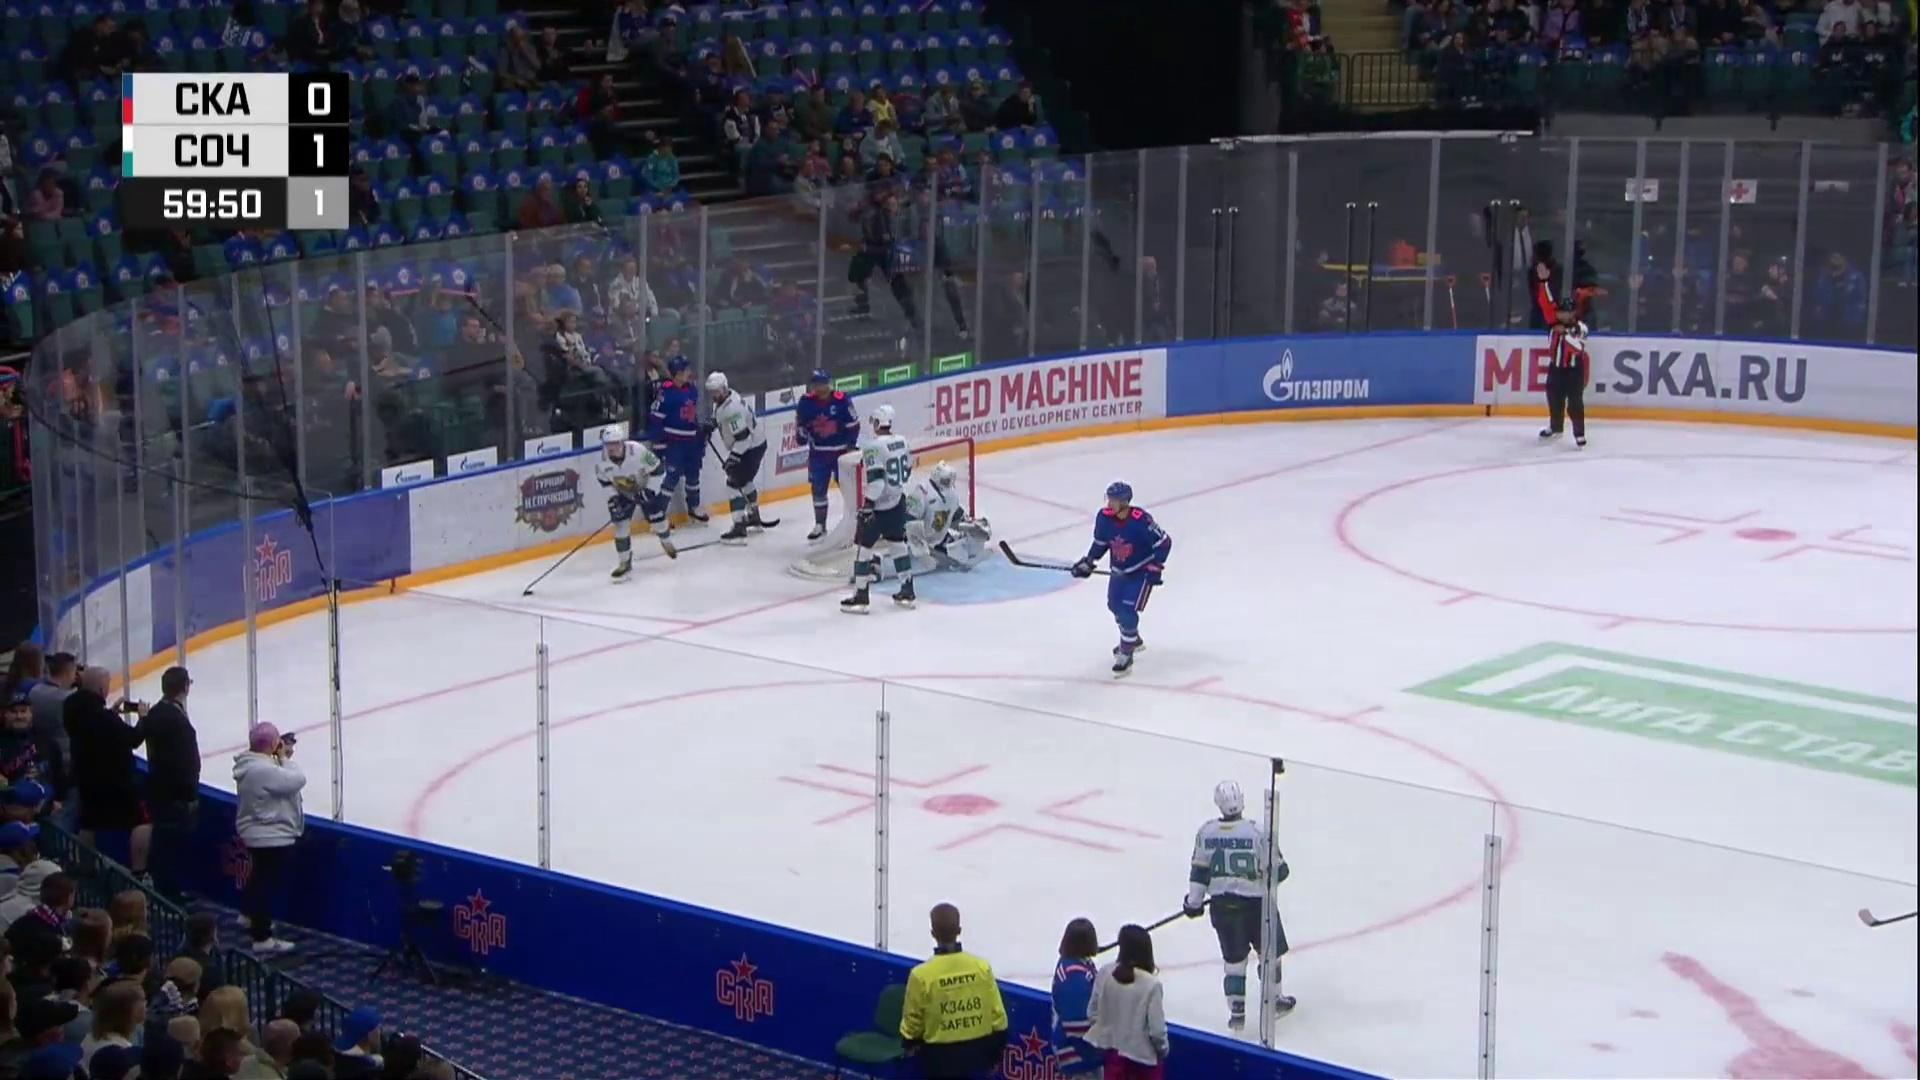ball: (526, 591, 534, 596)
